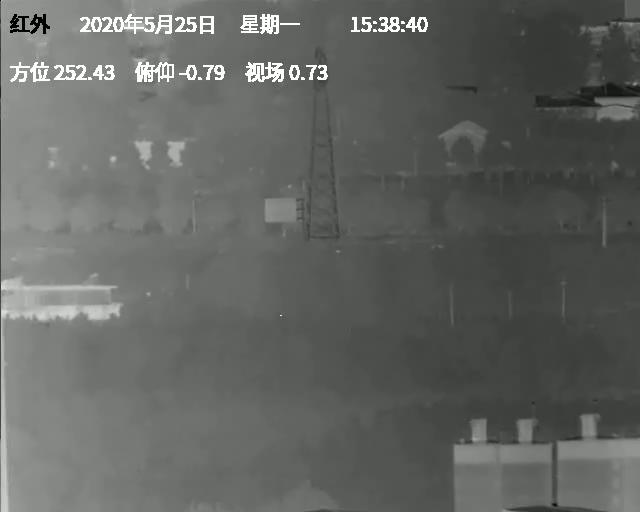uav: (334, 247, 343, 255)
